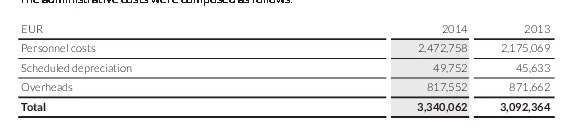table: (0, 0, 571, 132)
